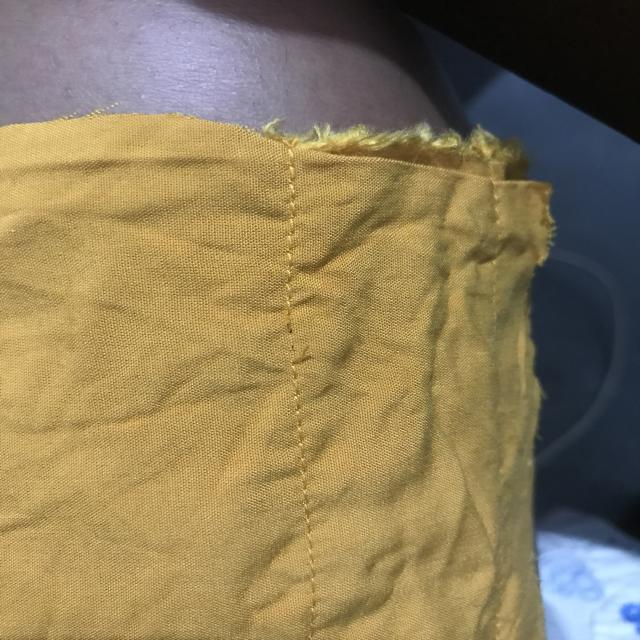broken: (269, 305, 343, 383)
good: (287, 434, 332, 577)
